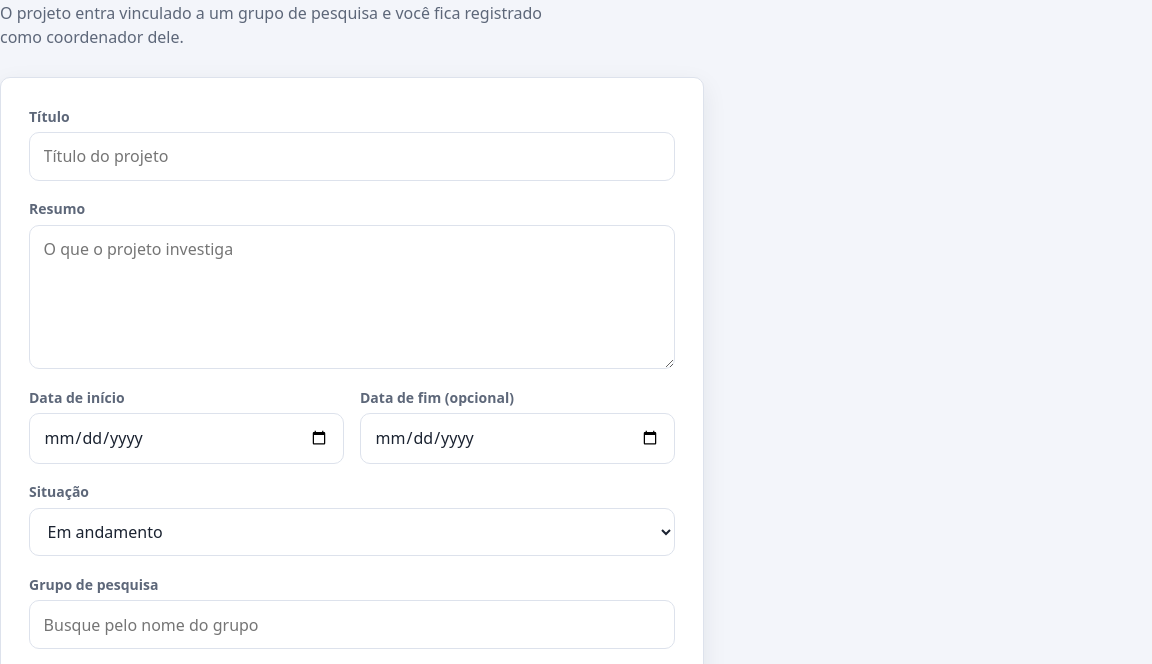
it: Tela de cadastro de projeto › sem grupo escolhido, a validação do cliente segura o envio
In the field labelled "Título": (352, 156) [29, 132, 675, 181], type "Inteligência artificial aplicada ao Agreste"
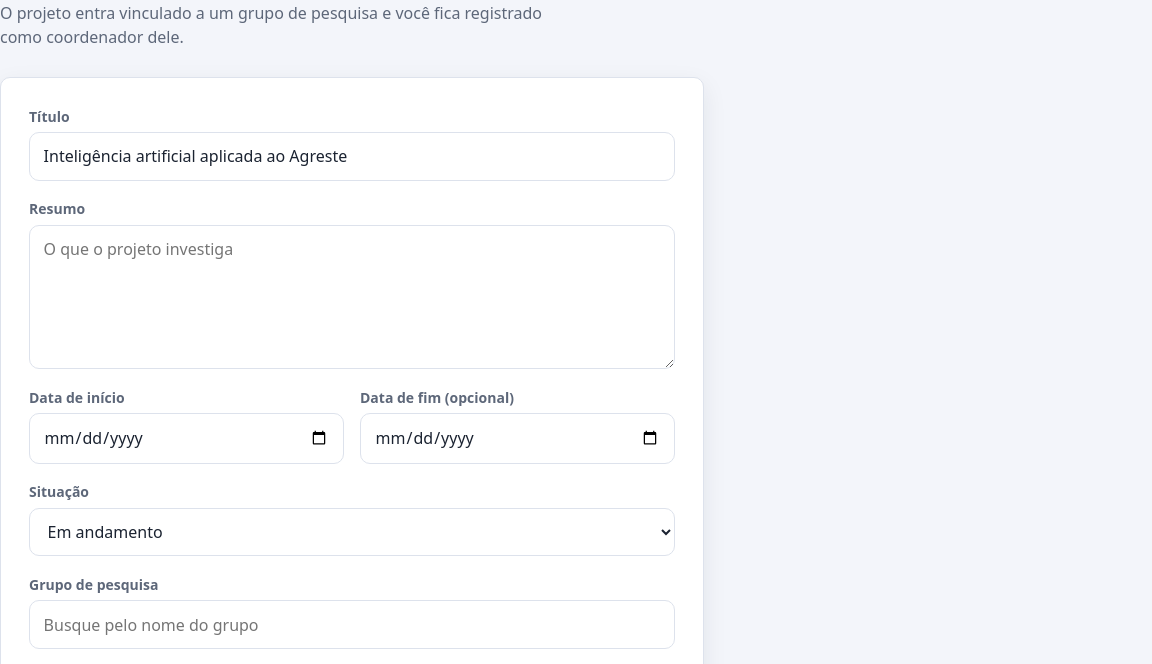
In the text box labelled "Resumo": (352, 297) [29, 225, 675, 369], type "Estuda a aplicação de aprendizado de máquina..."
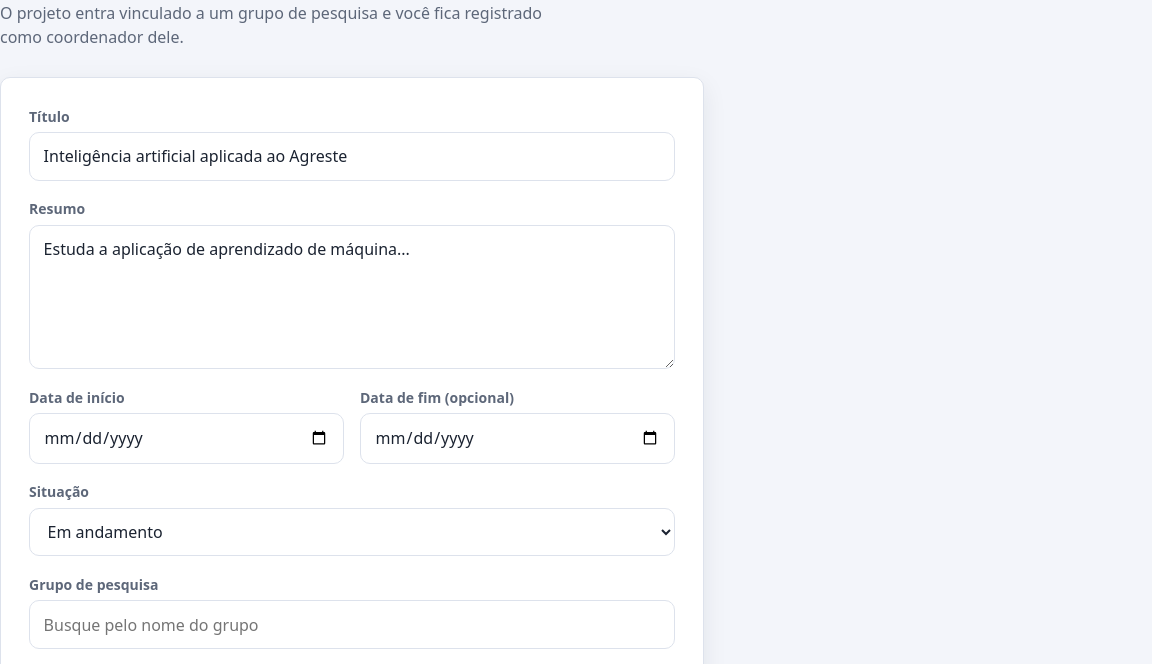
In the date field labelled "Data de início": (186, 438) [29, 413, 344, 464], type "2024-03-01"
(page scrolled)
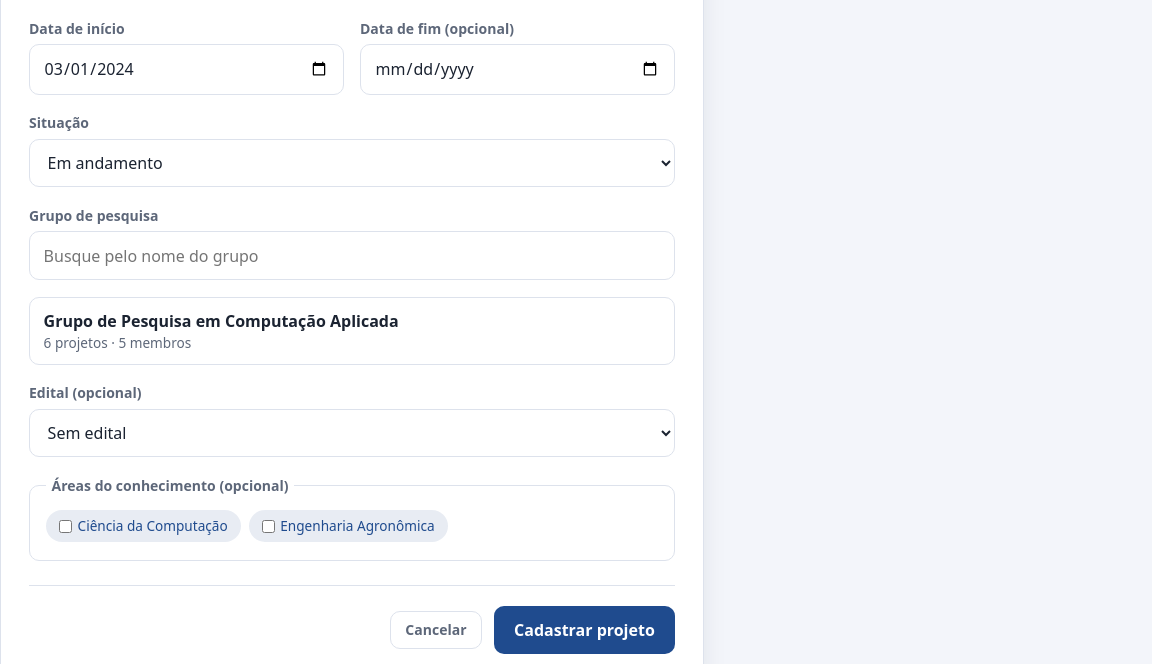
Click the button "Cadastrar projeto": (584, 630) [494, 606, 675, 654]
(page scrolled)
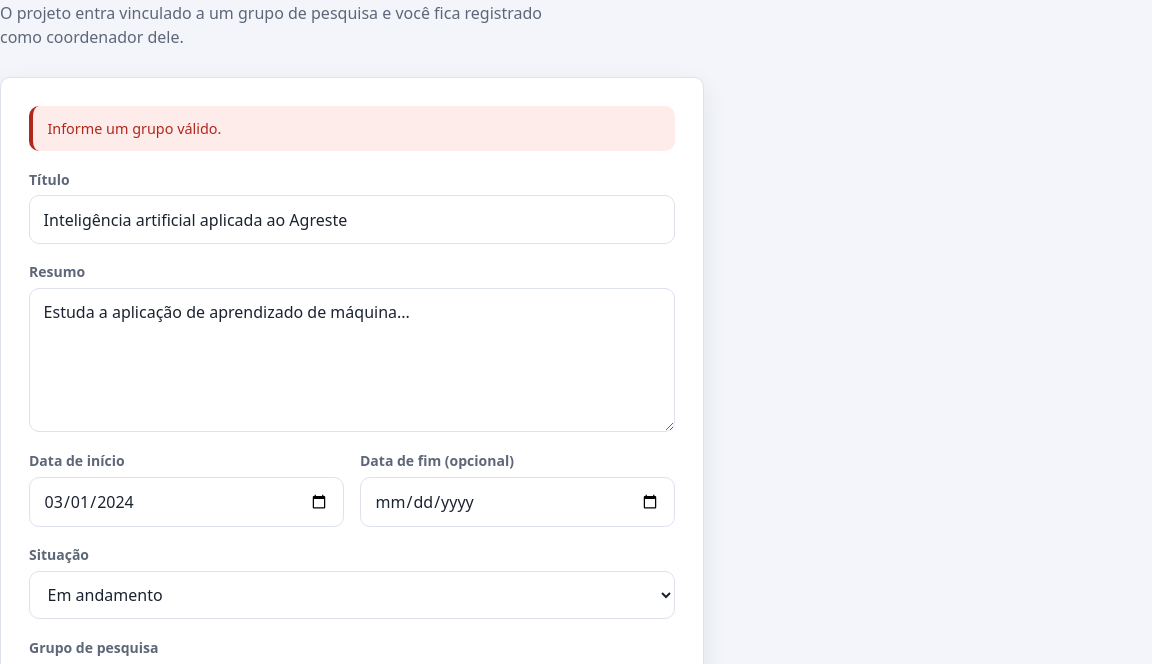
Expected: the text "Informe um grupo válido." is shown, [29, 106, 675, 151]
